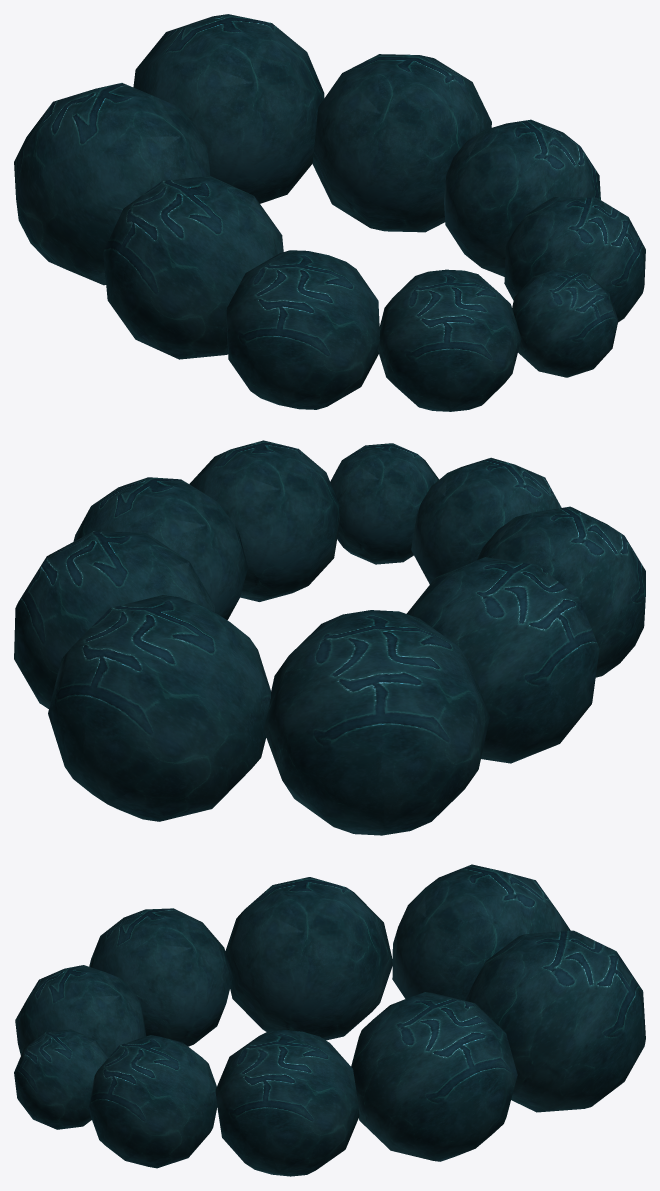
Rendered from SM_Prayer_bead.fbx.
The picture shows the model from 3 angles, top to bottom: view 1: azimuth 30°, elevation 25°; view 2: azimuth 150°, elevation 25°; view 3: azimuth 270°, elevation 25°; orthographic projection. The views are drawn at different scales.
Parts seen in each view (by area): view 1: SM_Prayer_bead_LOD0; view 2: SM_Prayer_bead_LOD0; view 3: SM_Prayer_bead_LOD0.
Part boxes in pixels (box(x1,y1,x2,y2)): SM_Prayer_bead_LOD0: box(14, 14, 645, 411); SM_Prayer_bead_LOD0: box(14, 440, 645, 835); SM_Prayer_bead_LOD0: box(14, 864, 645, 1176).
Bounding box in the file's own units: 11.61 × 15.02 × 4.49.
